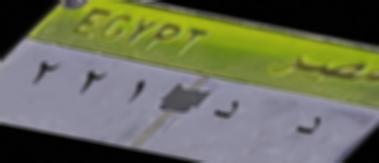1: (122, 72, 153, 111)
2: (74, 55, 114, 104), (24, 53, 64, 88)
daal: (206, 94, 251, 127), (281, 112, 330, 140)
